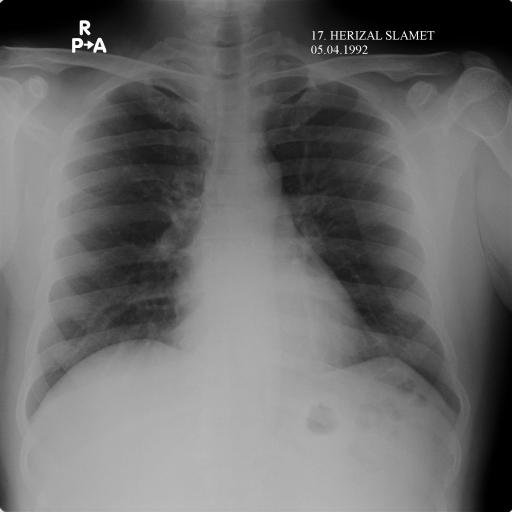normal: (13, 39, 474, 445)
